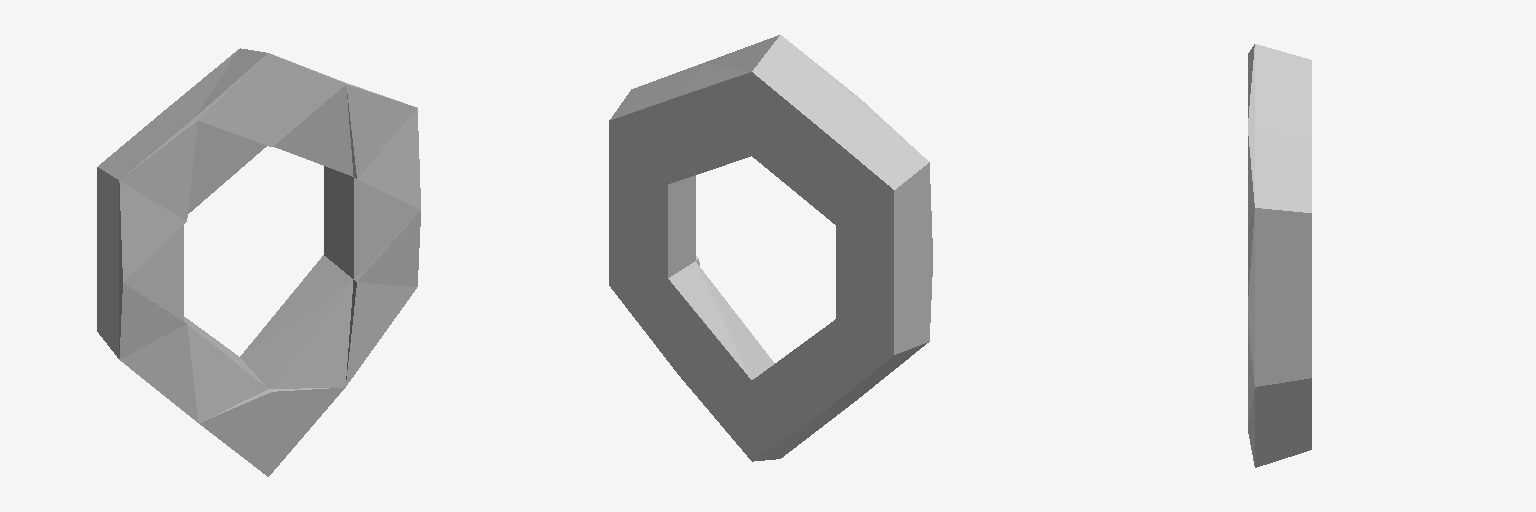
File: SATC.obj
The picture shows the model from 3 angles: view 1: azimuth 30°, elevation 25°; view 2: azimuth 150°, elevation 25°; view 3: azimuth 270°, elevation 25°; orthographic projection.
Parts seen in each view (by area): view 1: SATC_Plane; view 2: SATC_Plane; view 3: SATC_Plane.
Boxes of the visible parts, <box> form: SATC_Plane: <box>97,48,420,476</box>; SATC_Plane: <box>609,35,932,461</box>; SATC_Plane: <box>1248,44,1311,467</box>.
Bounding box in the file's own units: 1.1 × 1.5 × 0.2063.